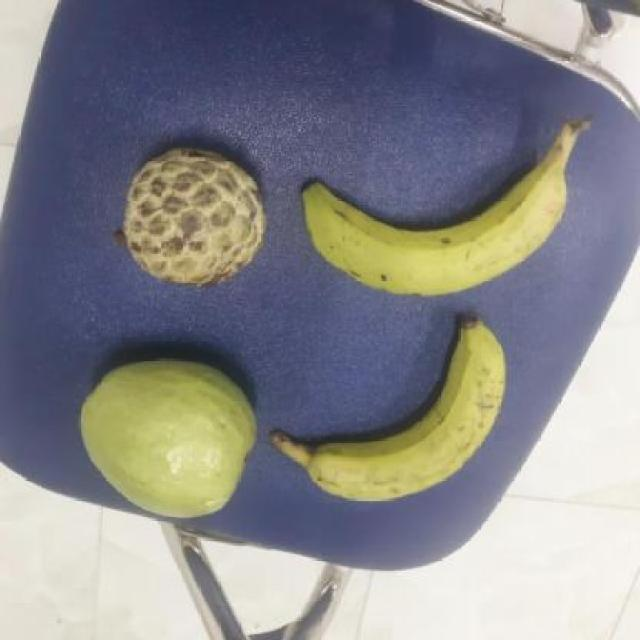banana: (260, 318, 509, 500), (288, 138, 566, 298)
guava: (77, 353, 254, 524)
sugar apple: (110, 147, 265, 287)
